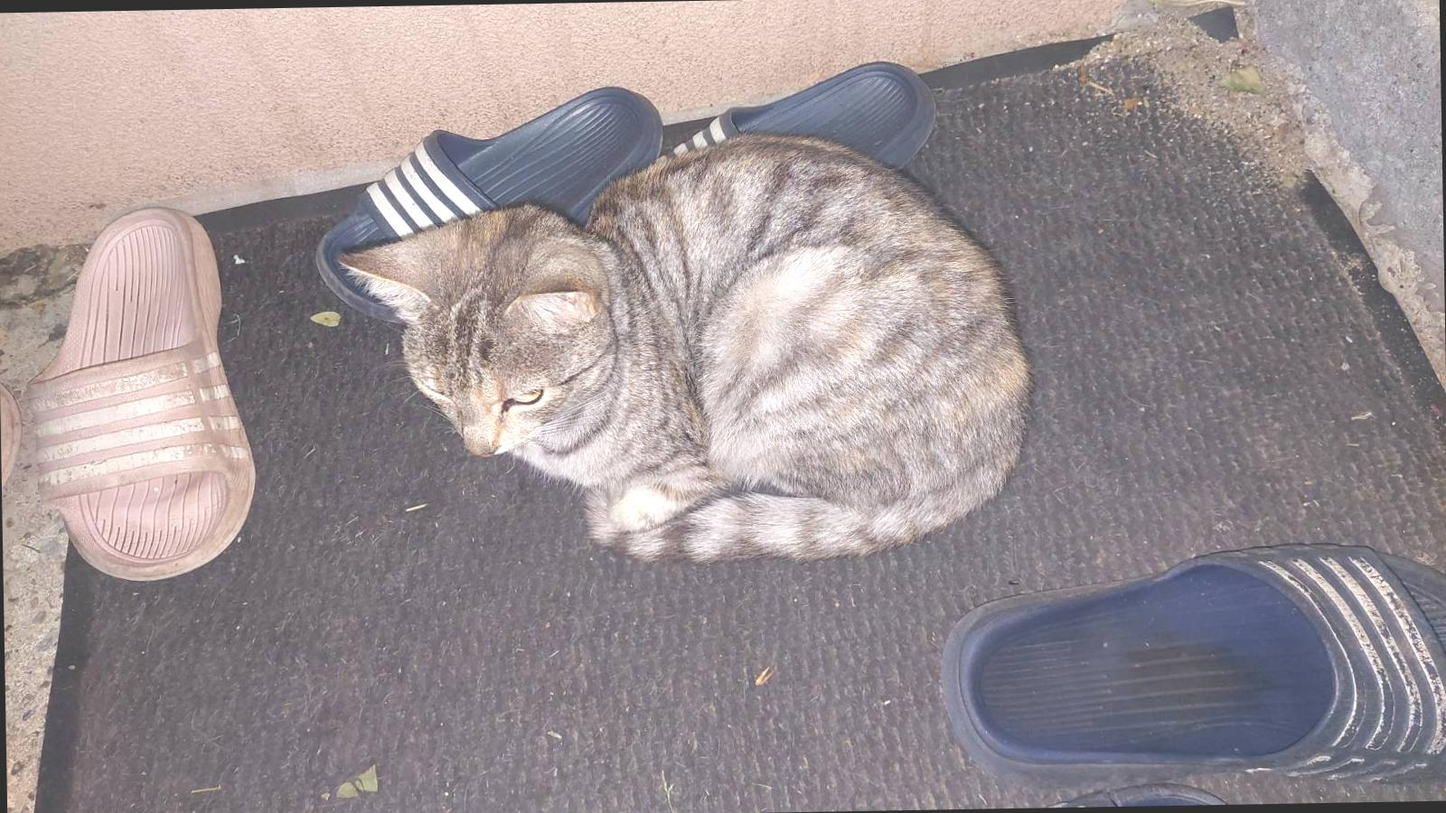macka: (336, 129, 1031, 571)
